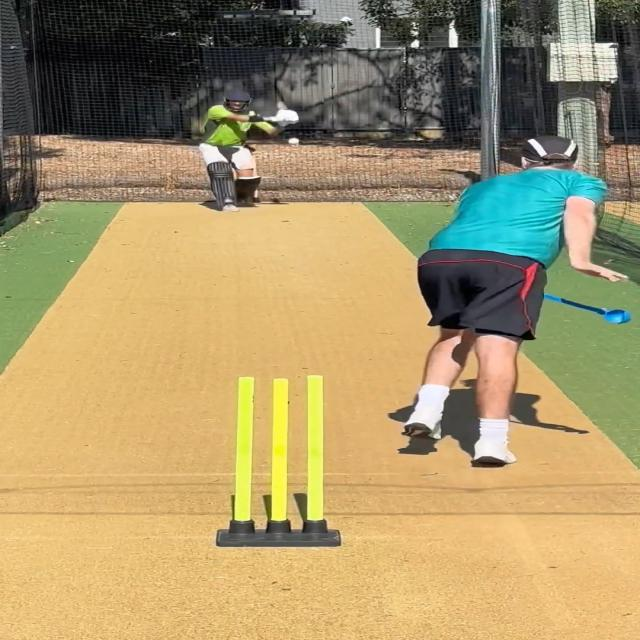ball: (288, 138, 299, 146)
stump: (215, 376, 338, 548)
